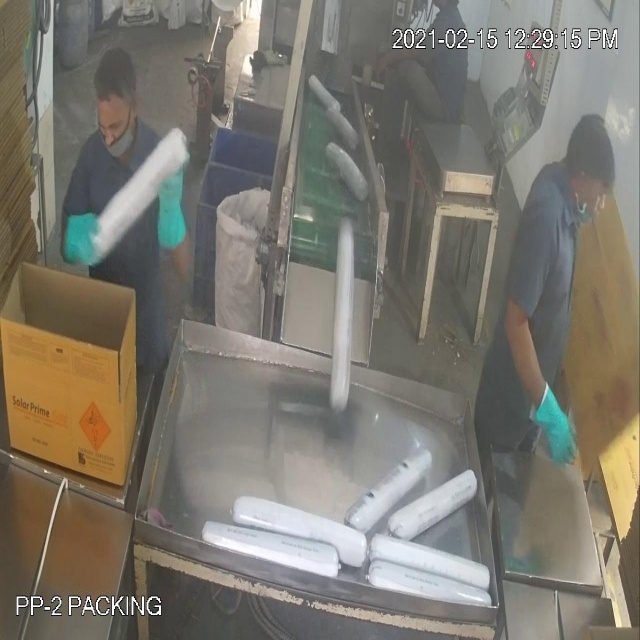Guantes: (520, 356, 583, 471), (148, 141, 192, 260), (54, 206, 106, 280)
Sin_guantes: (368, 32, 443, 87)
